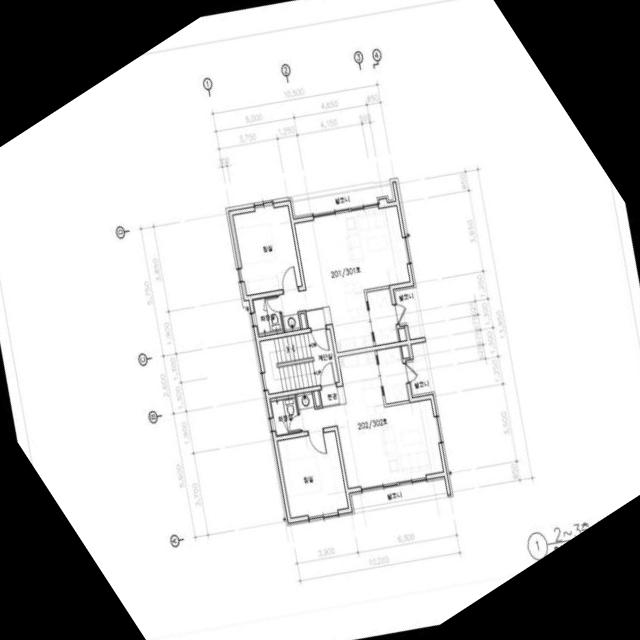background: (0, 0, 640, 640)
space_balconi: (291, 183, 392, 216), (350, 478, 446, 509), (394, 287, 421, 339), (405, 342, 430, 394)
space_bedroom: (232, 205, 301, 294), (276, 431, 347, 517)
space_front: (305, 306, 331, 327), (319, 386, 345, 407)
space_kitchen: (337, 350, 384, 416), (332, 280, 373, 352)
space_living_room: (278, 205, 409, 331), (296, 380, 442, 488)
space_other: (376, 346, 408, 403), (366, 288, 397, 345), (299, 313, 306, 328), (313, 390, 319, 406), (401, 345, 408, 358), (398, 328, 405, 340)
space_staircase: (259, 329, 338, 393)
space_toilet: (269, 394, 300, 435), (252, 295, 282, 334)
